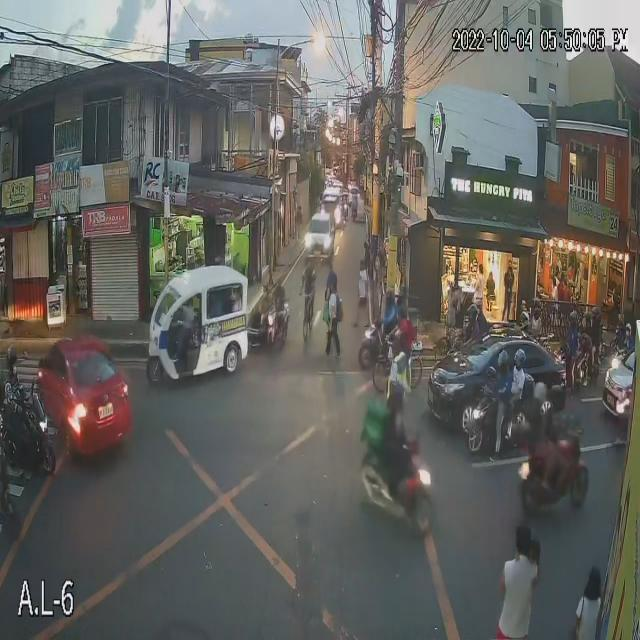helmet: (383, 378, 409, 415), (2, 342, 22, 375), (388, 289, 409, 315), (460, 301, 479, 325), (510, 350, 529, 370), (491, 349, 510, 369), (577, 304, 592, 327), (566, 308, 580, 332), (470, 295, 486, 315), (590, 305, 604, 326), (532, 386, 546, 404), (382, 287, 394, 307)
motorcycle: (343, 451, 434, 527), (522, 429, 588, 511), (465, 389, 546, 450), (0, 400, 51, 483), (547, 336, 601, 387), (355, 323, 413, 363)
rider: (371, 372, 414, 468), (0, 329, 24, 435), (526, 378, 552, 471), (508, 345, 536, 413), (562, 304, 582, 365), (374, 285, 397, 337), (490, 353, 508, 416), (392, 288, 408, 336), (462, 299, 476, 344), (589, 301, 602, 348), (474, 295, 486, 328), (582, 309, 592, 343)
